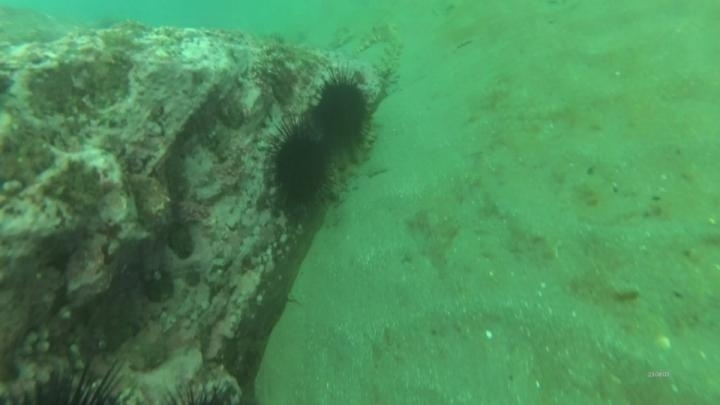echinus: (262, 119, 338, 215), (9, 354, 138, 404), (308, 68, 378, 155)
holothurian: (325, 19, 364, 55), (352, 20, 391, 55)
